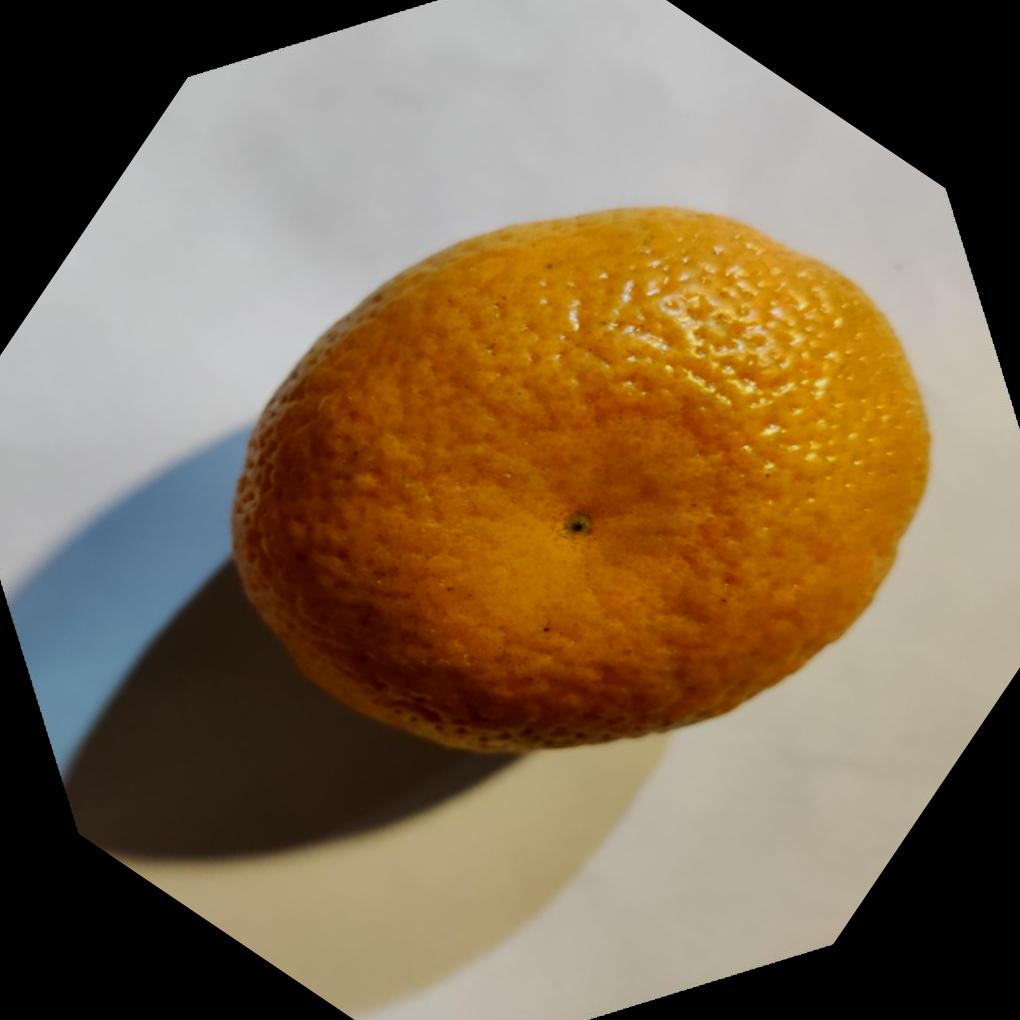FreshGuava: (224, 206, 932, 759)
